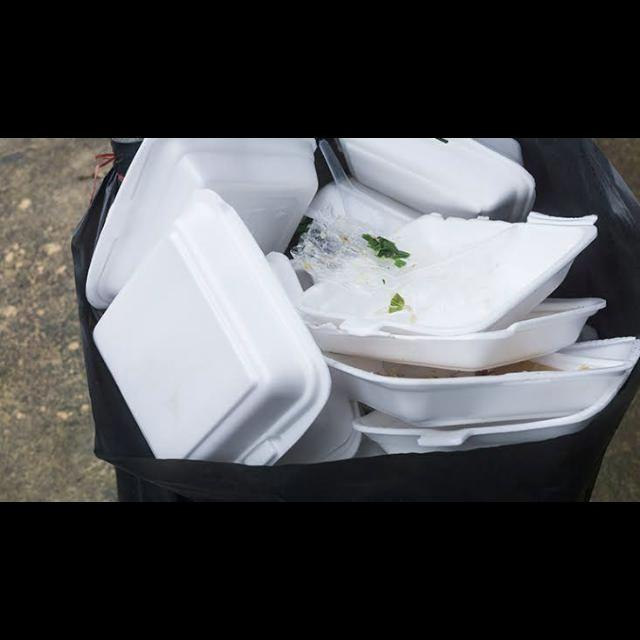plastic_bag: (290, 207, 405, 281)
